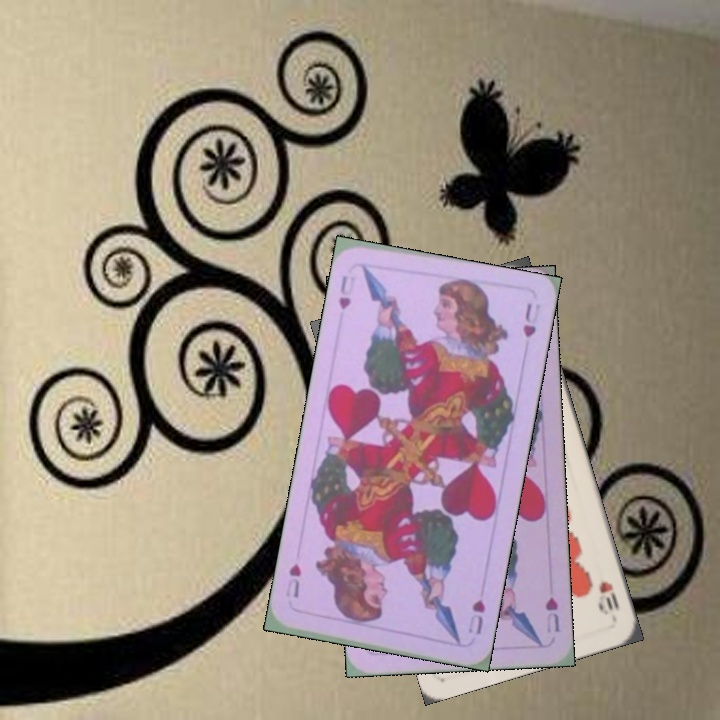H10: (595, 577, 622, 617)
HU: (464, 595, 488, 637), (334, 271, 358, 313), (541, 592, 562, 635)
